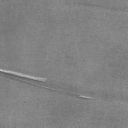finishing roll printing: (0, 68, 55, 91), (80, 94, 94, 99)
